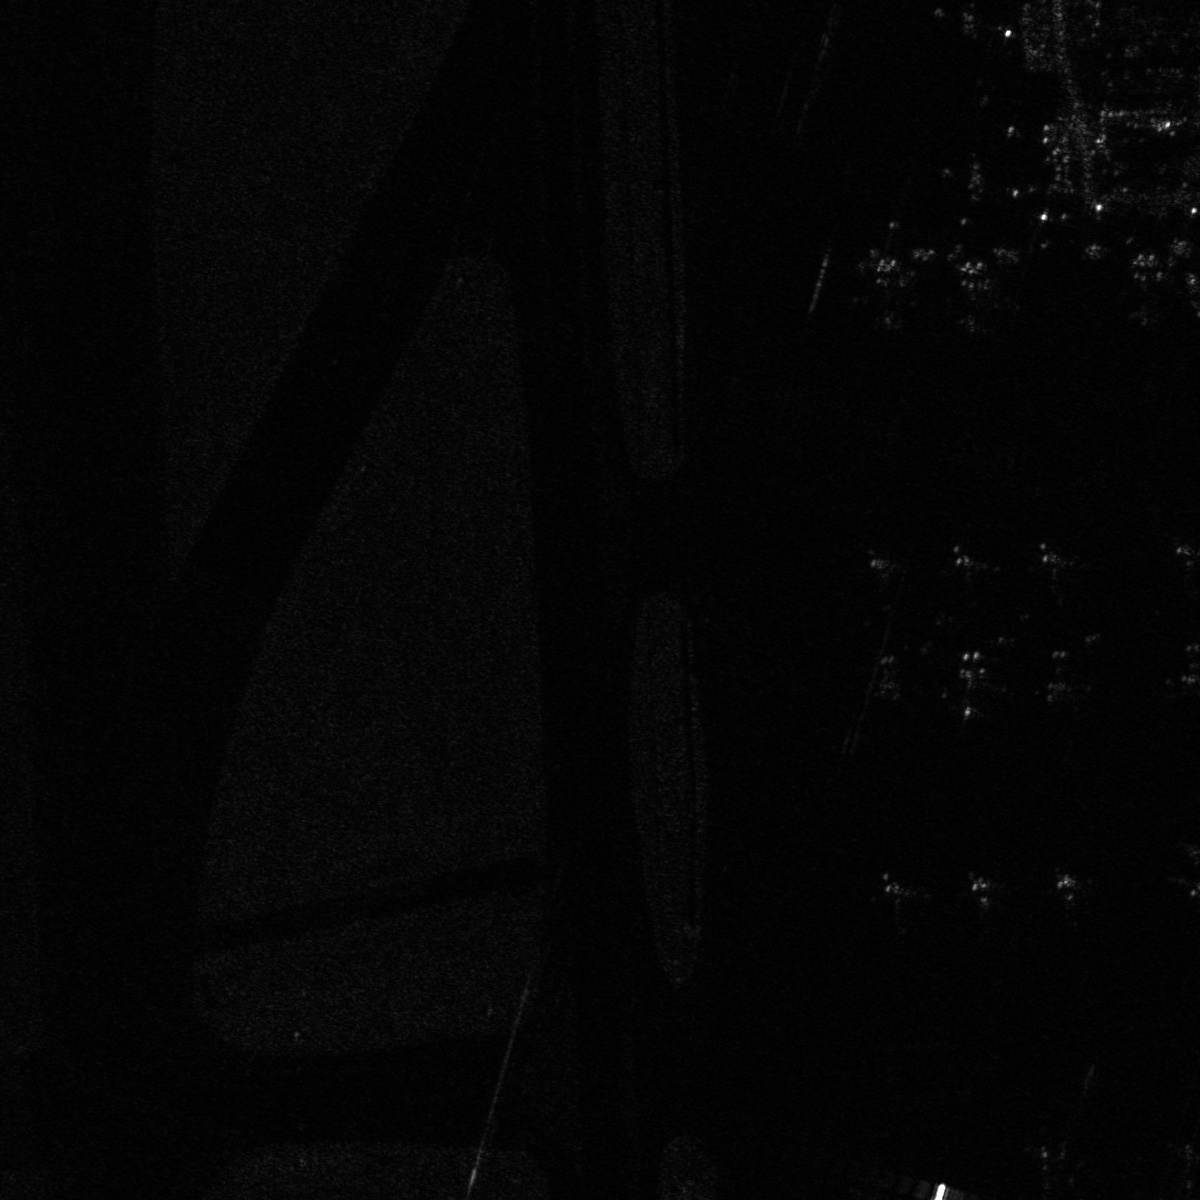A220: (942, 869, 1022, 924)
A320/321: (844, 251, 923, 334), (1033, 866, 1101, 924)
ARJ21: (853, 870, 935, 938), (1022, 643, 1104, 707), (852, 652, 921, 709)
Boeing737: (927, 251, 1031, 341), (930, 642, 1011, 727), (1109, 241, 1185, 332)
other: (1009, 1143, 1092, 1199), (1016, 541, 1084, 607), (844, 547, 912, 611), (936, 545, 1004, 597)
